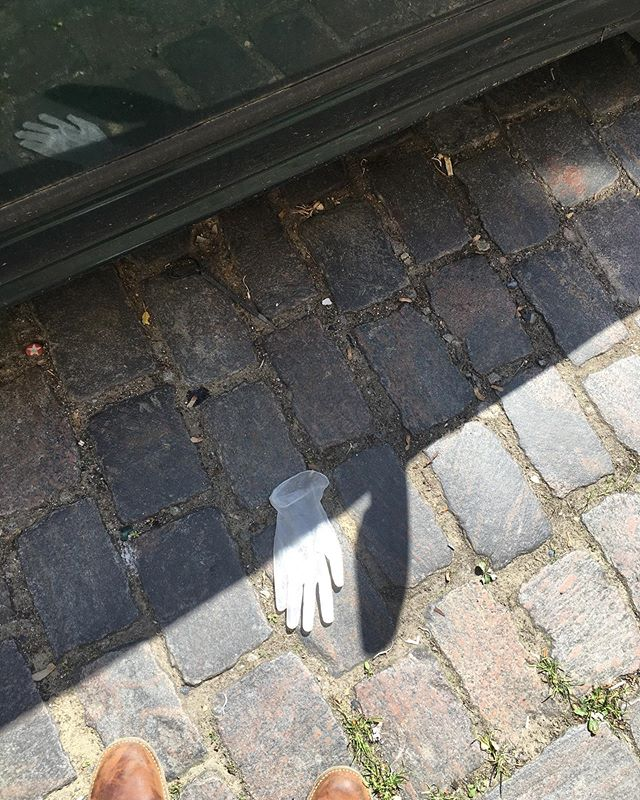glove: (250, 443, 376, 641)
